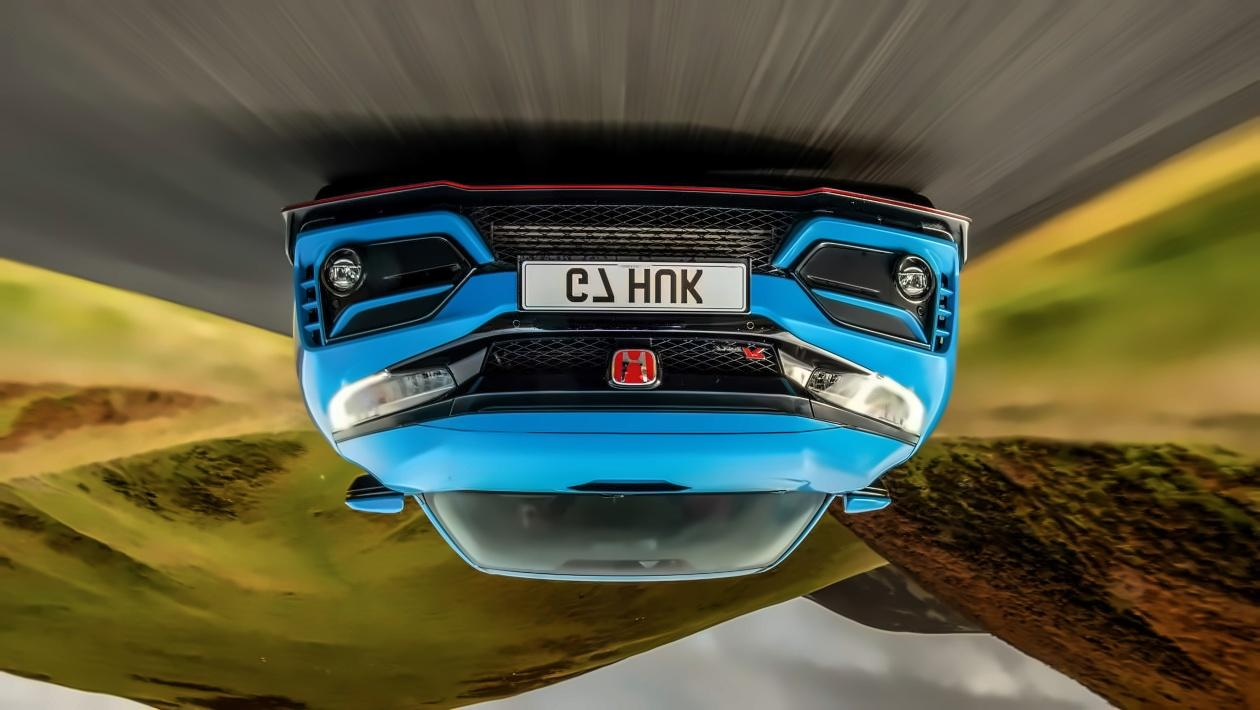Car hood: (331, 401, 914, 496)
Front bumper: (276, 172, 971, 402)
Headlight - -L-: (330, 351, 468, 454)
Headlight - -R-: (778, 335, 924, 452)
Side mirror - -L-: (339, 473, 406, 512)
Side mirror - -R-: (839, 481, 892, 512)
